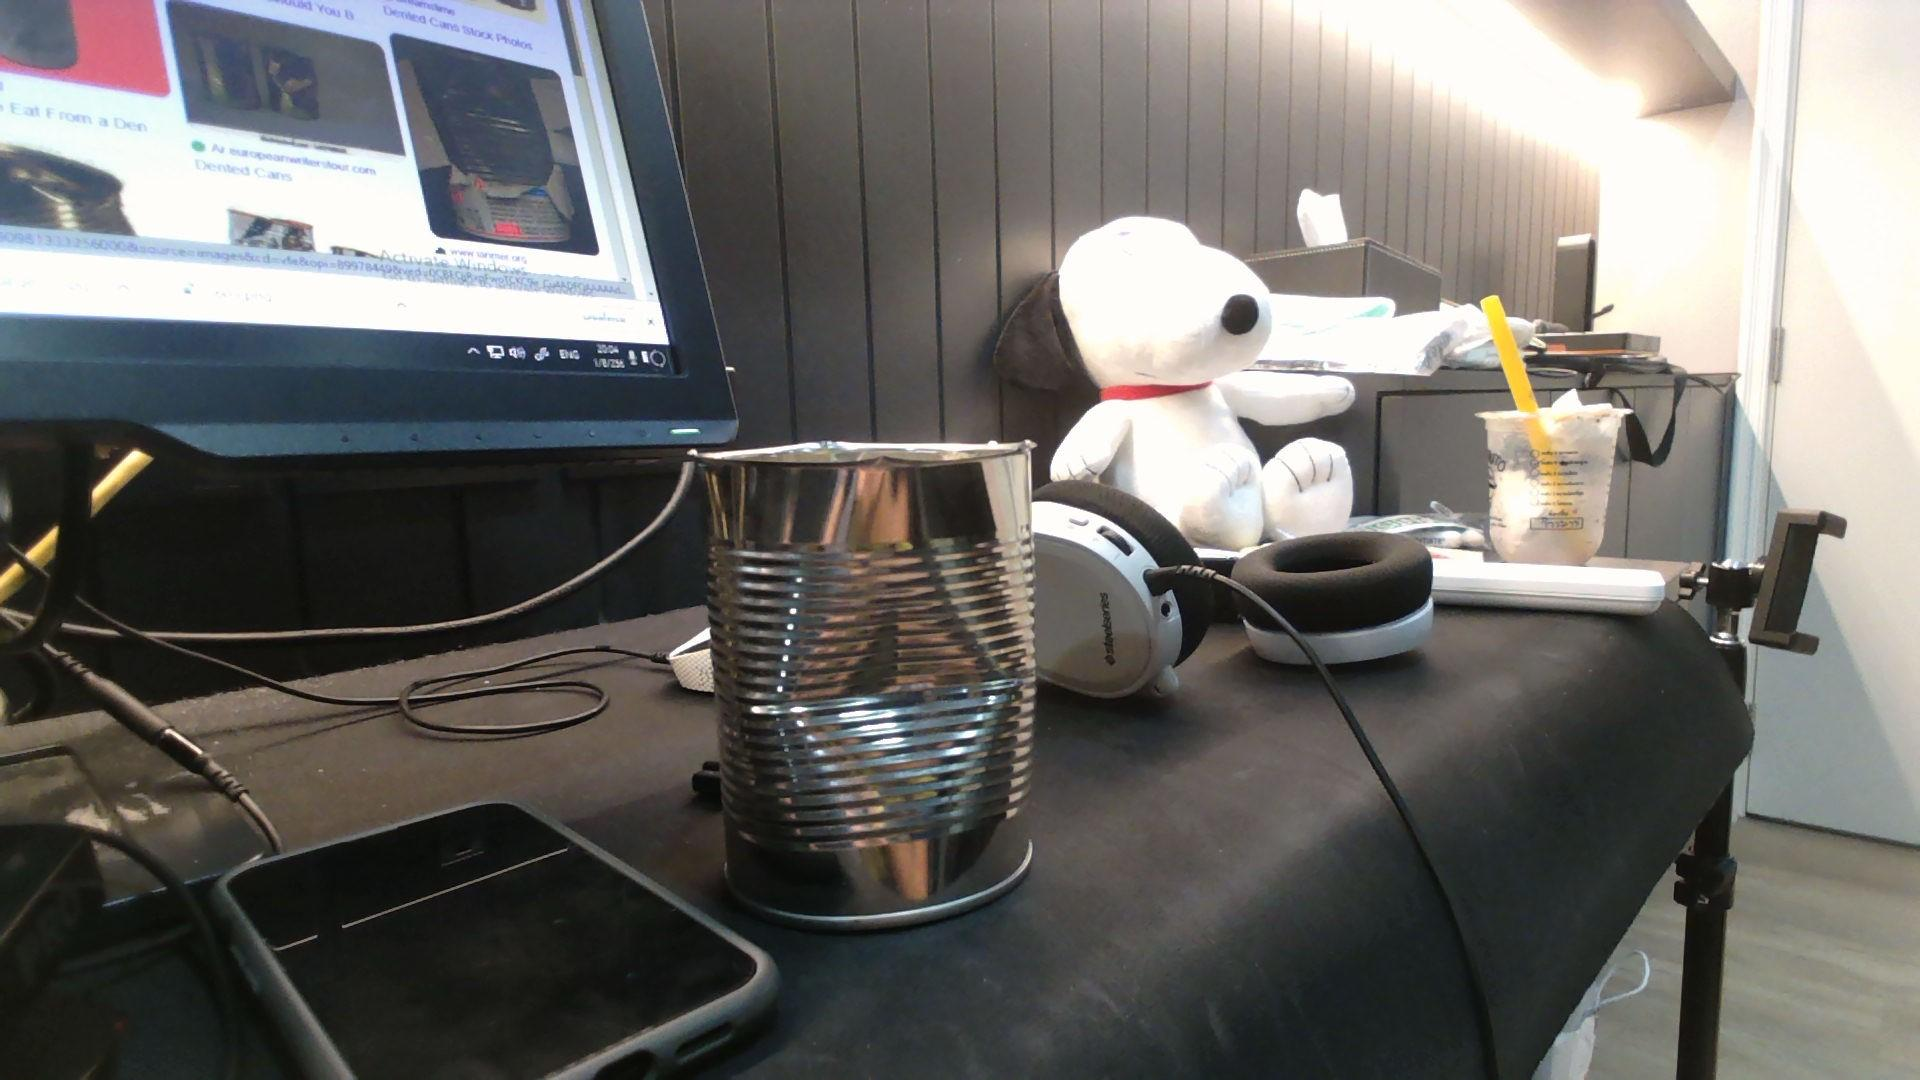metal: (702, 440, 1060, 916)
